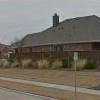Chimney: (46, 10, 68, 31)
